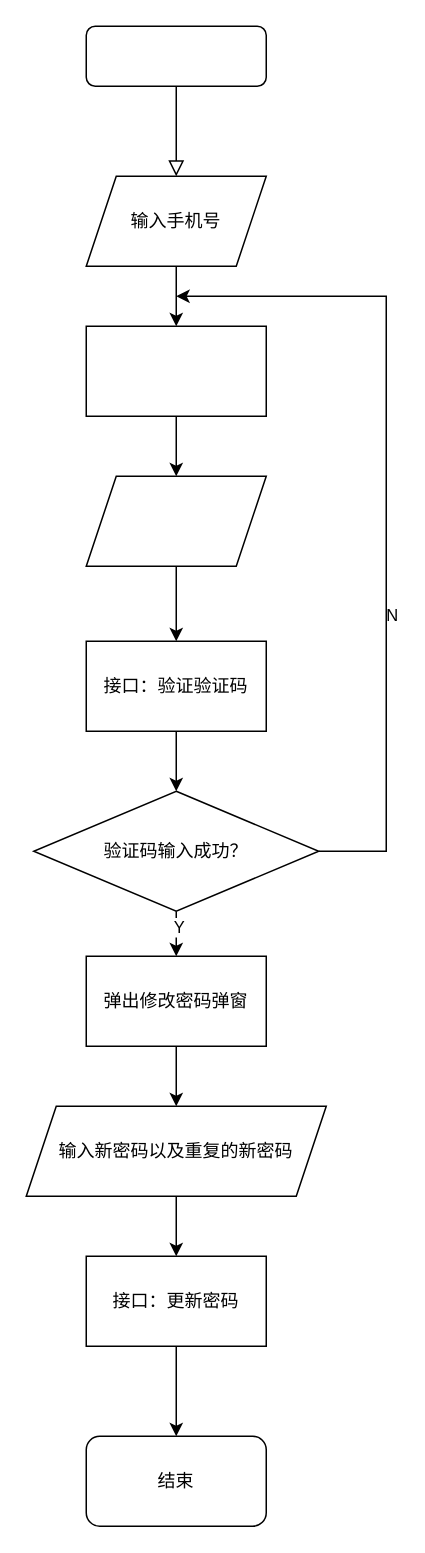
Image size: 425x1553. Some labels were removed from this diagram. Here are the shapes that lost their labels. From the top down, the box of each, then its label:
(85, 25, 266, 86): 开始
(85, 325, 266, 416): 接口：发送验证码
(85, 475, 266, 566): 输入验证码
